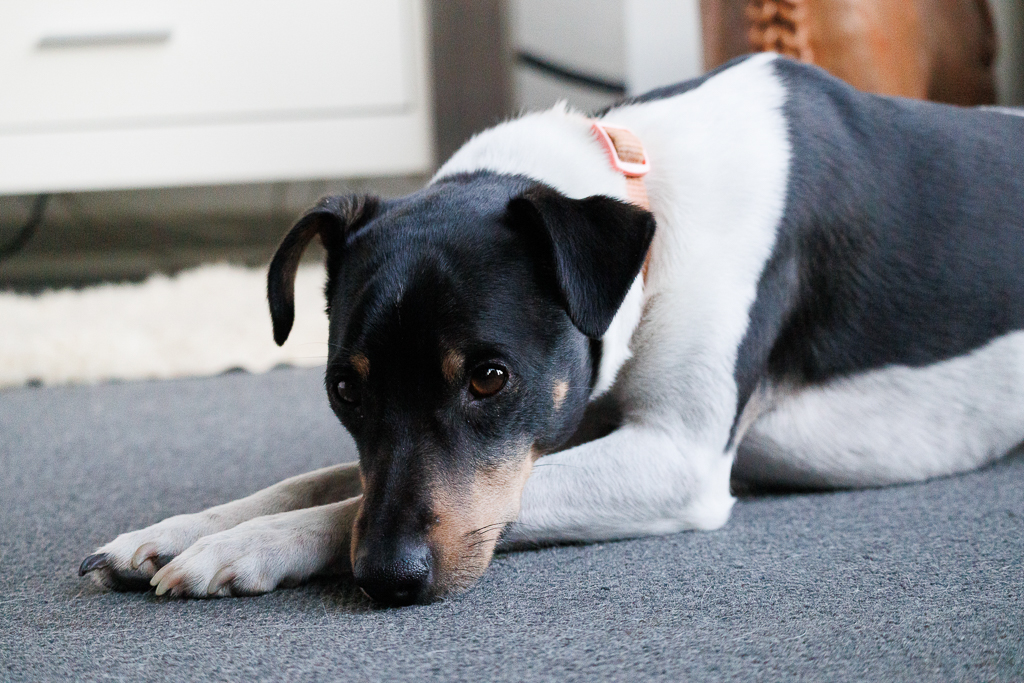Cattle: (690, 0, 1016, 112)
Dog: (69, 48, 1024, 609)
